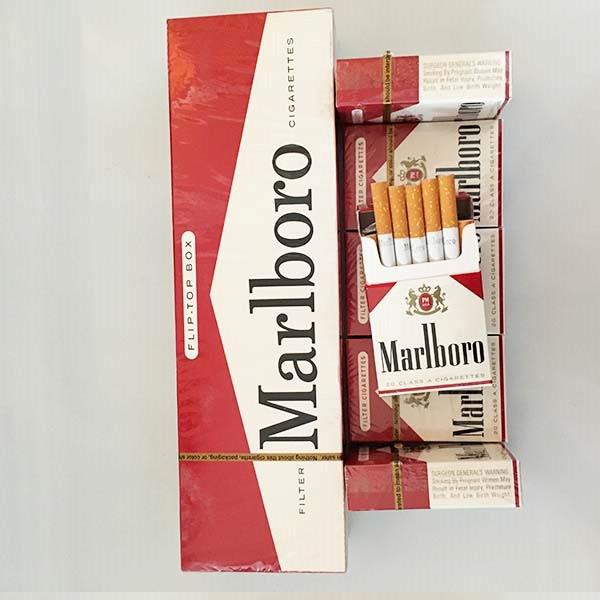marlboro_red: (342, 122, 501, 229), (346, 339, 504, 444), (376, 244, 482, 384)
